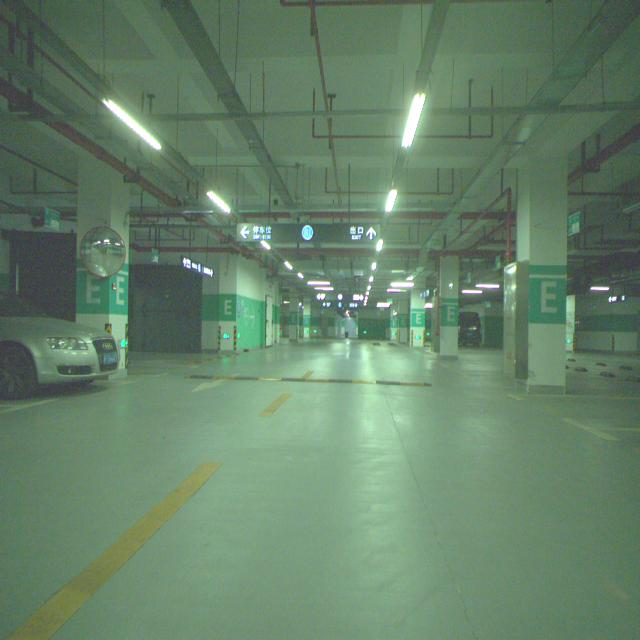pillar: (76, 152, 131, 370), (518, 158, 568, 393)
